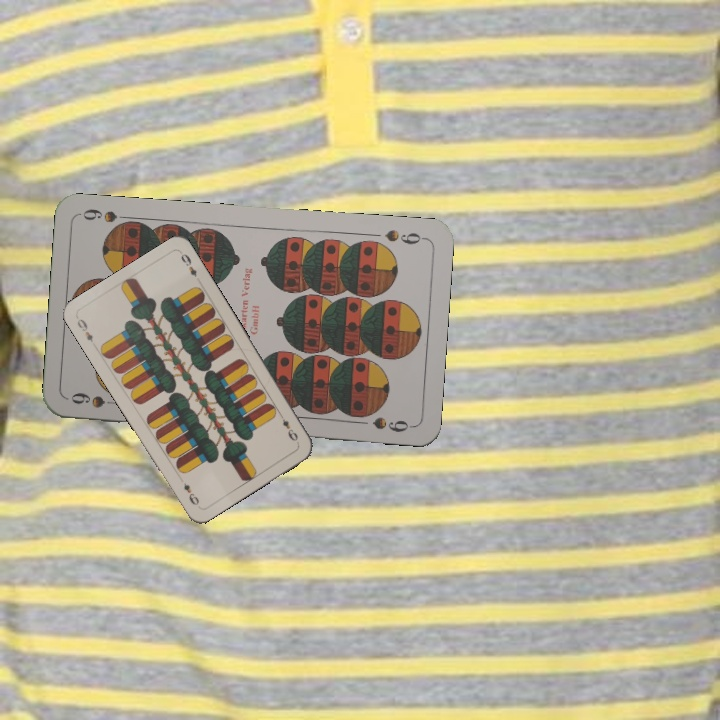E9: (73, 315, 96, 345), (278, 415, 301, 444)
S9: (66, 388, 125, 410), (381, 225, 428, 247)
